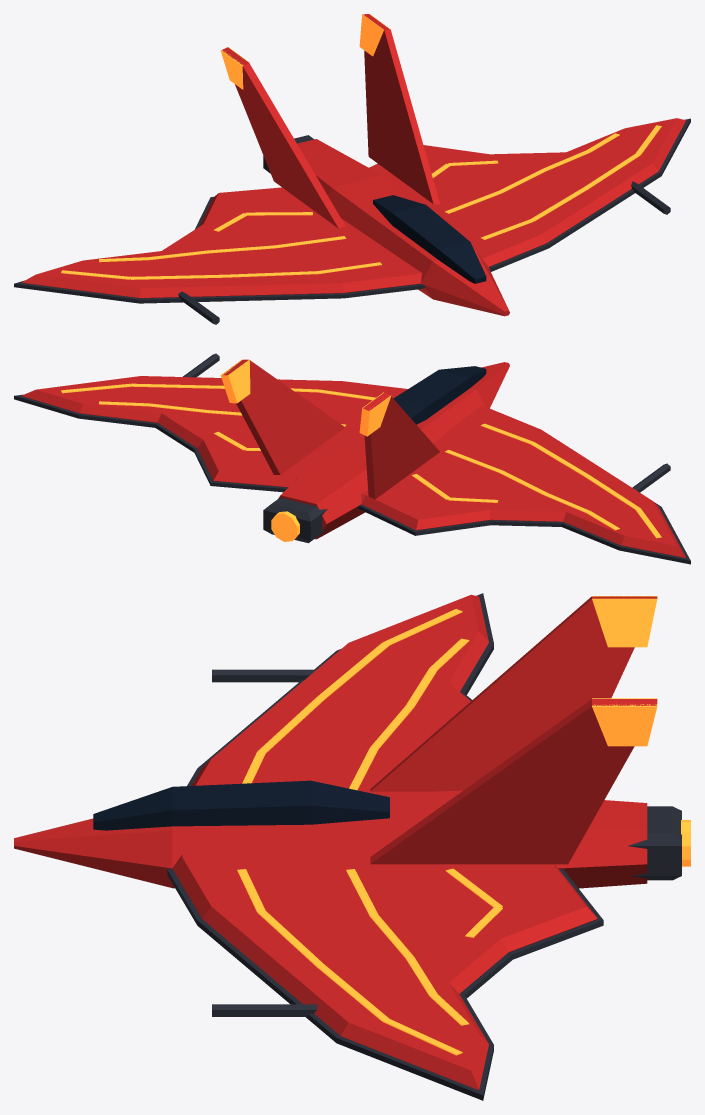
Rendered from enemy_glider.glb.
3 renders of one model, top to bottom at view 1: azimuth 30°, elevation 25°; view 2: azimuth 150°, elevation 25°; view 3: azimuth 270°, elevation 25°, orthographic. The views are drawn at different scales.
Visible parts, largest first — view 1: enemy_glider; view 2: enemy_glider; view 3: enemy_glider.
Boxes of the visible parts, bbox=[...] form: enemy_glider: bbox=[14, 14, 690, 324]; enemy_glider: bbox=[14, 353, 690, 564]; enemy_glider: bbox=[14, 593, 690, 1100].
Bounding box in the file's own units: 1.3 × 0.2761 × 0.7403.
